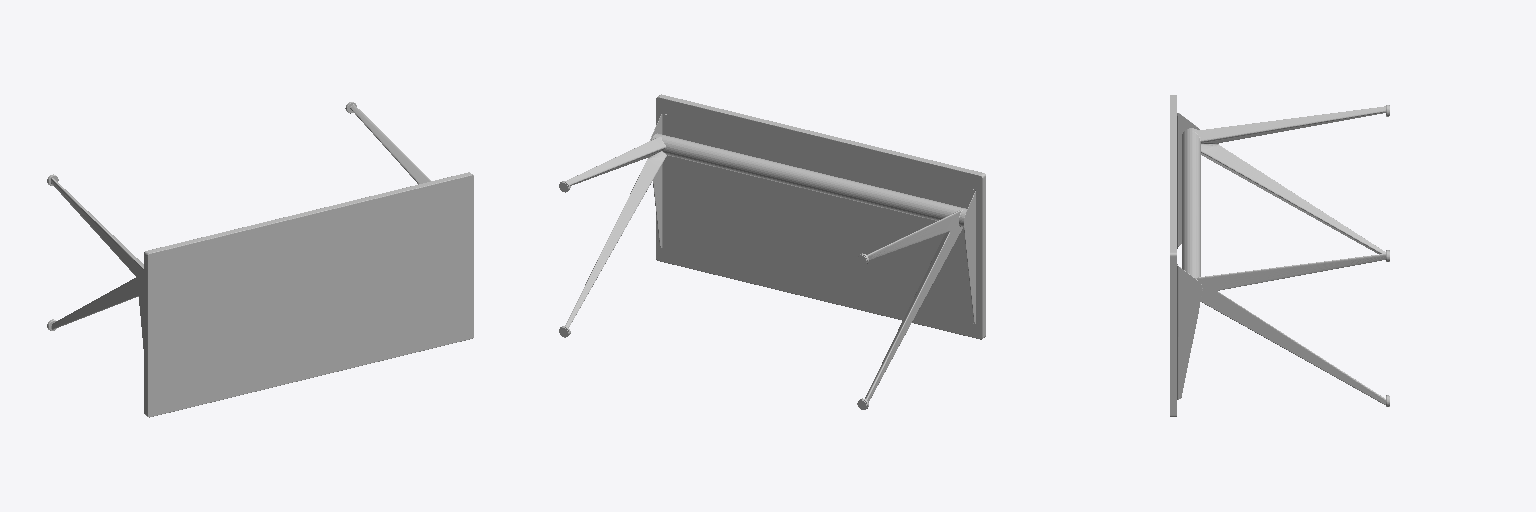
The model's file is Vitra_Compas_Direction_mat.obj.
The picture shows the model from 3 angles: view 1: azimuth 30°, elevation 25°; view 2: azimuth 150°, elevation 25°; view 3: azimuth 270°, elevation 25°; orthographic projection.
Visible parts, largest first — view 1: Vitra_Compas_Direction_mat1; view 2: Vitra_Compas_Direction_mat1; view 3: Vitra_Compas_Direction_mat1.
Boxes of the visible parts, <box> form: Vitra_Compas_Direction_mat1: <box>47,102,473,417</box>; Vitra_Compas_Direction_mat1: <box>559,94,985,409</box>; Vitra_Compas_Direction_mat1: <box>1170,95,1389,416</box>.
Size of the model in its own units: 125 by 60 by 73.